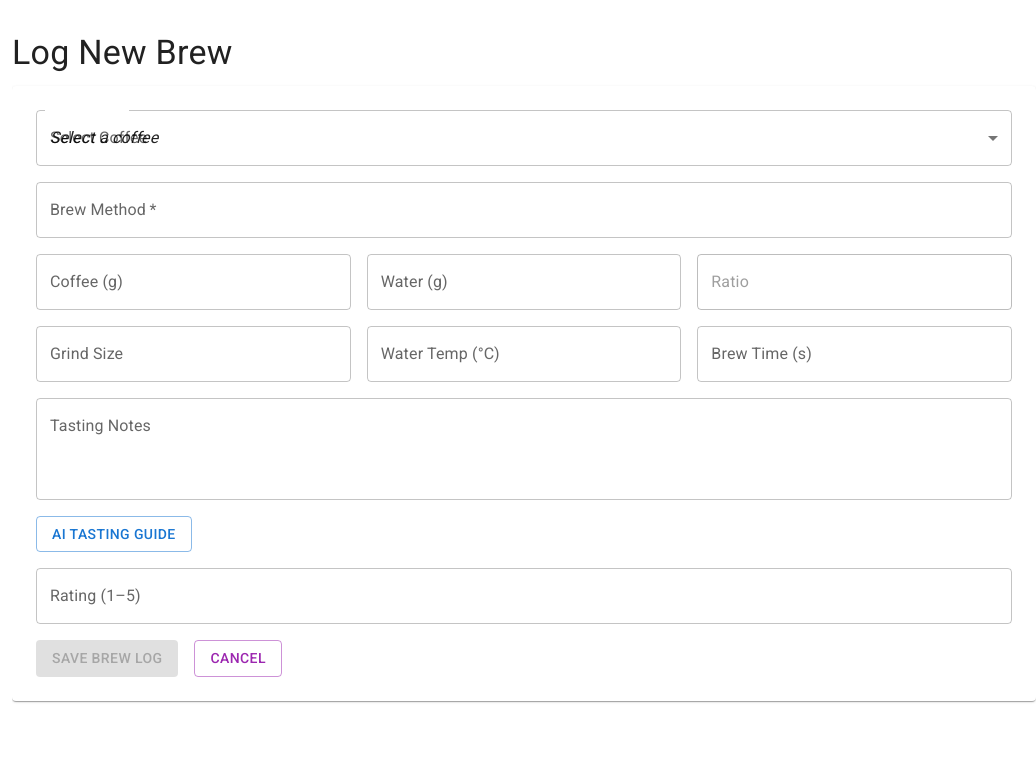
it: BrewLogForm › shows a friendly error when backend returns 403 for unauthorized coffee
This screenshot has width=1036, height=768.
Type "Chemex" into the field with test id "brew-method" at point(524, 210), box [36,182,1012,238]
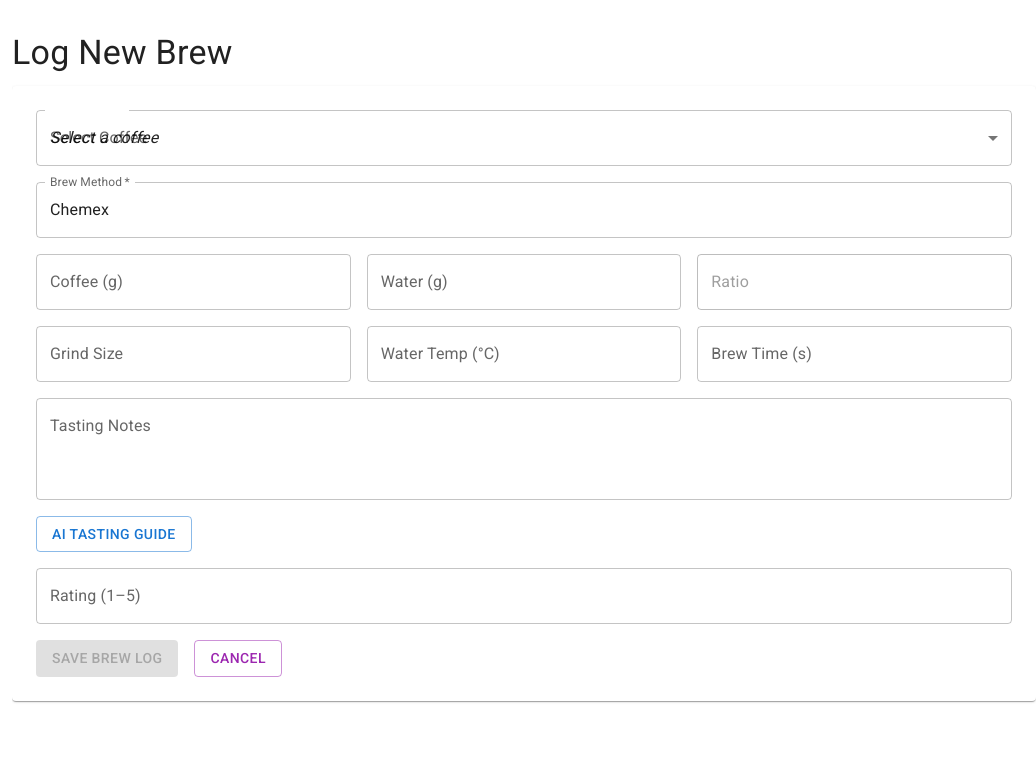
Press the mouse on the dropdown named "select coffee" at point(104, 138), box [50,128,158,147]
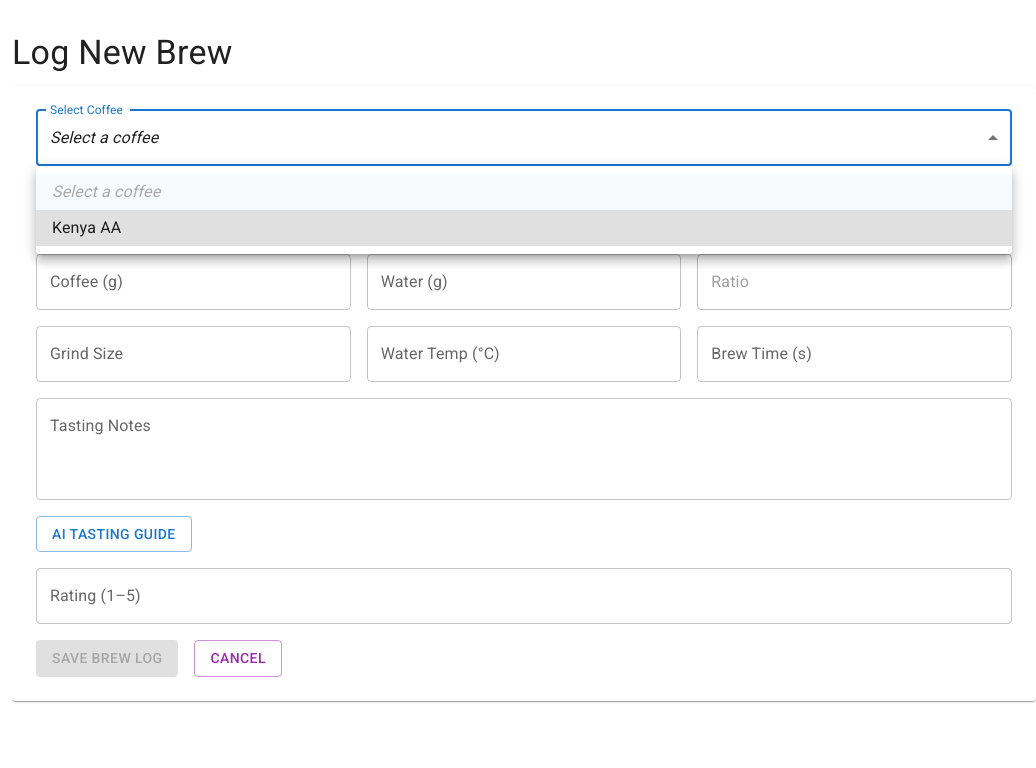
Click the option "Kenya AA" at point(87, 228), box [36,210,1012,246]
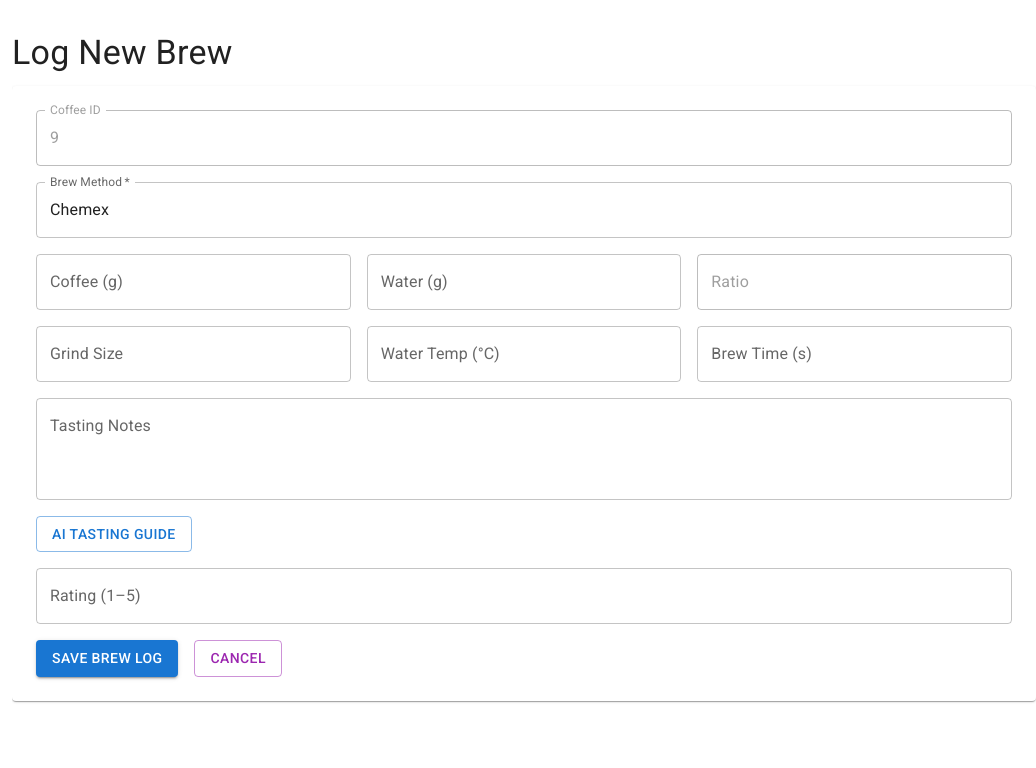
Click the button with test id "submit-brewlog" at point(107, 659), box [36,640,178,677]
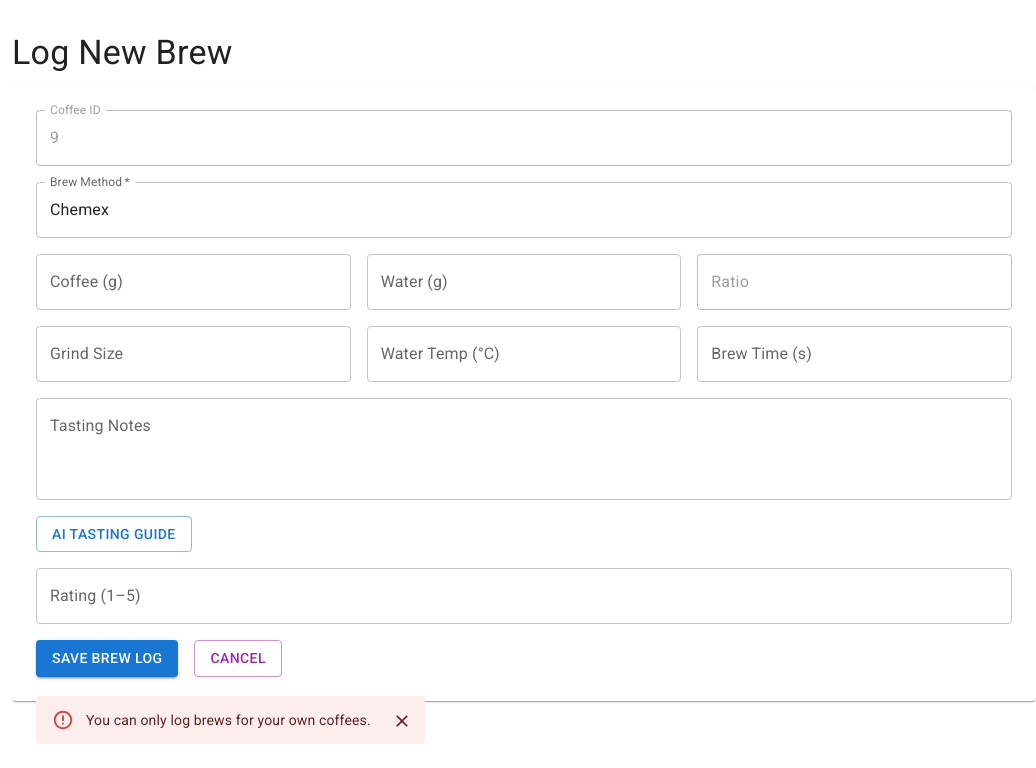
Now the text "You can only log brews for your own coffees." is shown, box [86,712,371,728]
